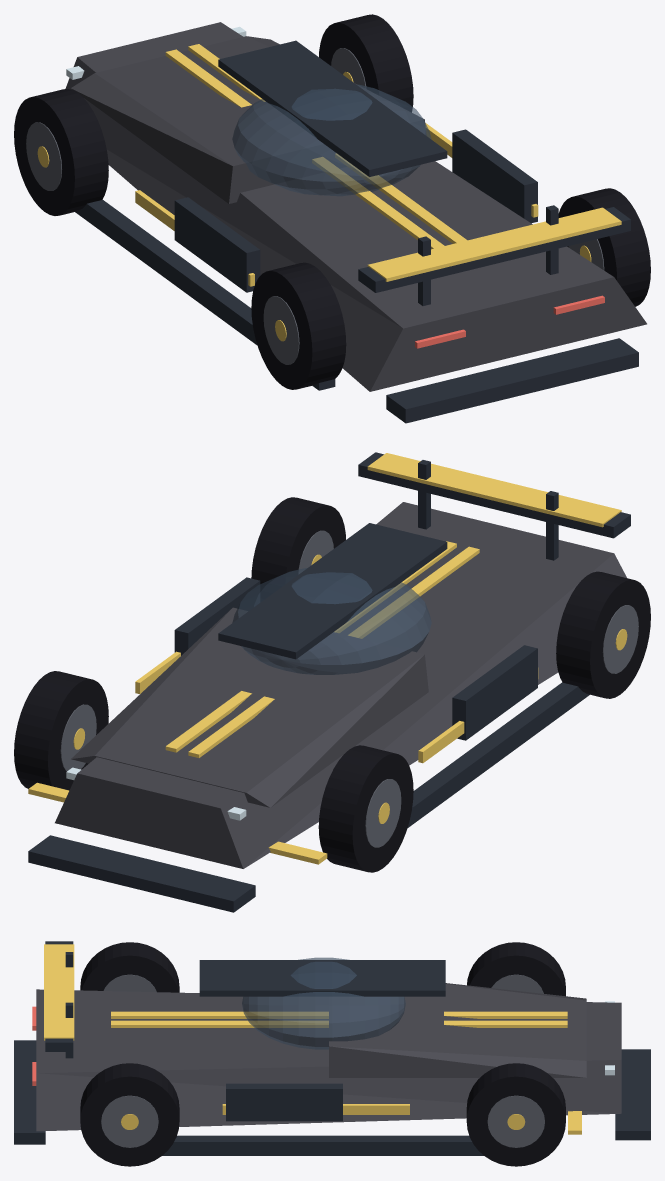
Rendered from shadow_zx.glb.
3 renders of one model, top to bottom at view 1: azimuth 30°, elevation 25°; view 2: azimuth 150°, elevation 25°; view 3: azimuth 270°, elevation 25°, orthographic. The views are drawn at different scales.
Parts seen in each view (by area): view 1: body_chassis, hood_slope, carbon_roof_spine, dark_cockpit_canopy, rear_diffuser, left_rear_tire, left_front_tire, left_side_skirt, rear_spoiler_accent, right_front_tire, left_side_intake, right_rear_tire (+8 smaller); view 2: body_chassis, hood_slope, carbon_roof_spine, dark_cockpit_canopy, left_front_tire, left_rear_tire, front_splitter, right_front_tire, left_side_skirt, right_rear_tire, rear_spoiler_accent, left_side_intake (+12 smaller); view 3: body_chassis, hood_slope, carbon_roof_spine, dark_cockpit_canopy, right_side_skirt, right_front_tire, right_rear_tire, right_side_intake, left_rear_tire, left_front_tire, front_splitter, rear_spoiler_accent (+9 smaller).
Boxes of the visible parts, bbox=[...] form: body_chassis: bbox=[65, 22, 646, 391]; hood_slope: bbox=[71, 36, 426, 203]; carbon_roof_spine: bbox=[218, 40, 447, 176]; dark_cockpit_canopy: bbox=[232, 84, 431, 196]; rear_diffuser: bbox=[386, 338, 638, 423]; left_rear_tire: bbox=[251, 262, 346, 389]; left_front_tire: bbox=[14, 89, 108, 215]; left_side_skirt: bbox=[75, 199, 335, 390]; rear_spoiler_accent: bbox=[367, 207, 621, 281]; right_front_tire: bbox=[319, 14, 413, 112]; left_side_intake: bbox=[174, 197, 260, 292]; right_rear_tire: bbox=[558, 188, 650, 306]; body_chassis: bbox=[55, 502, 626, 868]; hood_slope: bbox=[71, 607, 428, 807]; carbon_roof_spine: bbox=[218, 523, 447, 659]; dark_cockpit_canopy: bbox=[232, 568, 431, 674]; left_front_tire: bbox=[318, 745, 413, 872]; left_rear_tire: bbox=[556, 571, 650, 698]; front_splitter: bbox=[28, 835, 255, 912]; right_front_tire: bbox=[14, 671, 108, 790]; left_side_skirt: bbox=[407, 682, 589, 828]; right_rear_tire: bbox=[251, 497, 345, 601]; rear_spoiler_accent: bbox=[367, 453, 621, 527]; left_side_intake: bbox=[452, 645, 537, 740]; body_chassis: bbox=[36, 989, 621, 1131]; hood_slope: bbox=[329, 983, 586, 1077]; carbon_roof_spine: bbox=[199, 960, 445, 996]; dark_cockpit_canopy: bbox=[242, 957, 405, 1049]; right_side_skirt: bbox=[162, 1135, 483, 1155]; right_front_tire: bbox=[466, 1063, 565, 1166]; right_rear_tire: bbox=[80, 1063, 179, 1166]; right_side_intake: bbox=[226, 1083, 342, 1121]; left_rear_tire: bbox=[80, 942, 179, 992]; left_front_tire: bbox=[467, 942, 565, 996]; front_splitter: bbox=[615, 1049, 650, 1140]; rear_spoiler_accent: bbox=[44, 944, 74, 1040].
Size of the model in its own units: 2.52 by 1.1 by 5.
